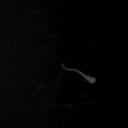fish: (61, 61, 97, 85)
